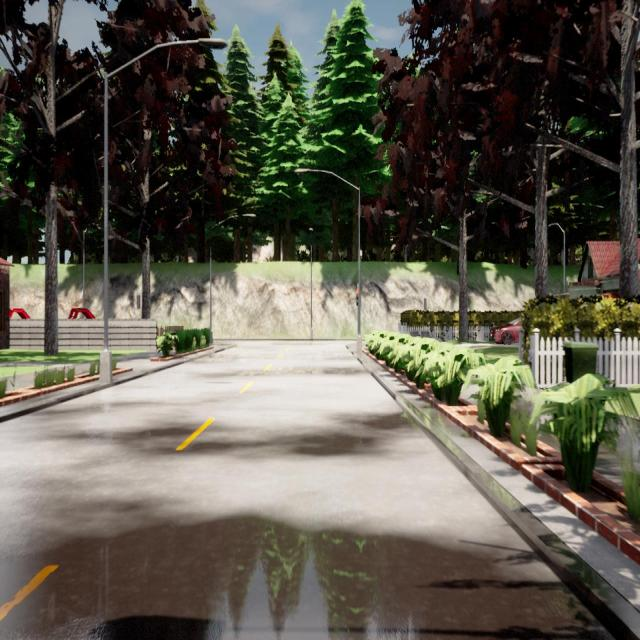Vehicle: (486, 307, 537, 346)
traffic_light: (356, 290, 359, 305)
